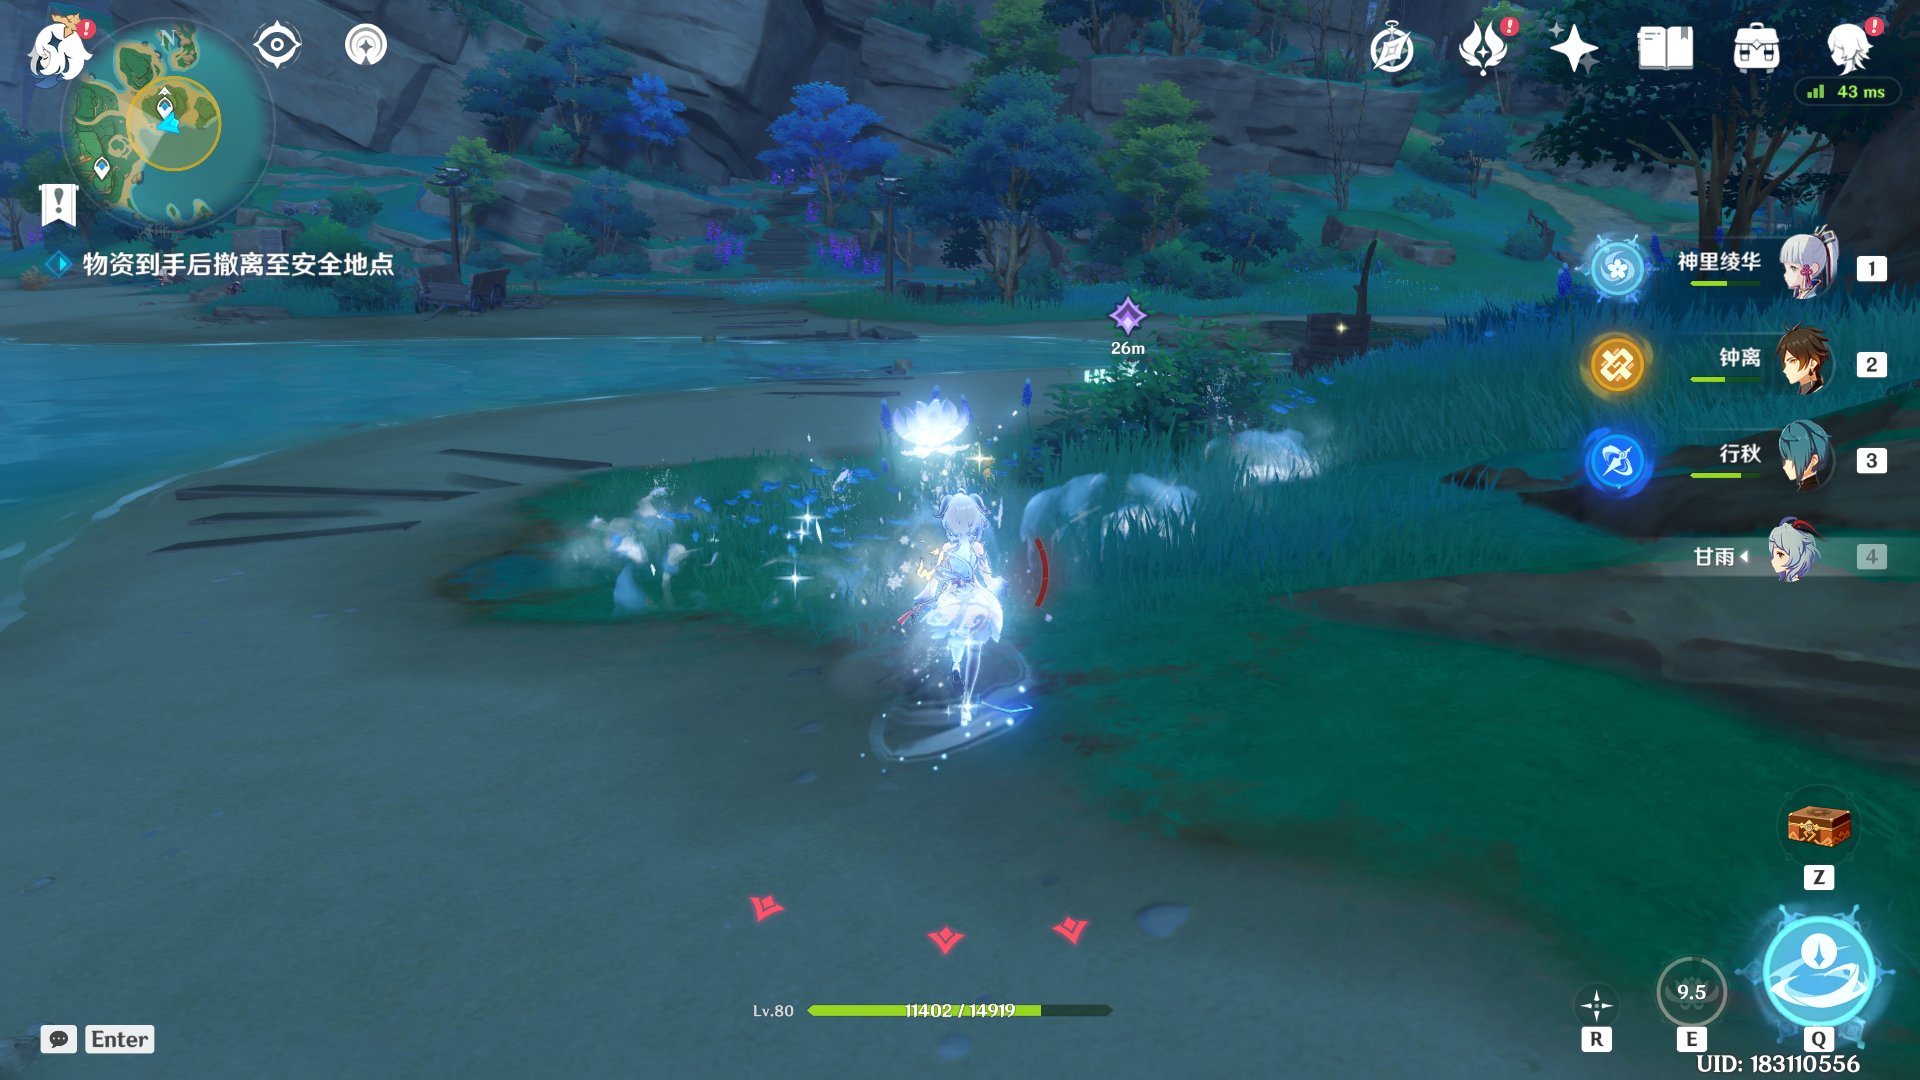character: (876, 475, 1040, 762)
